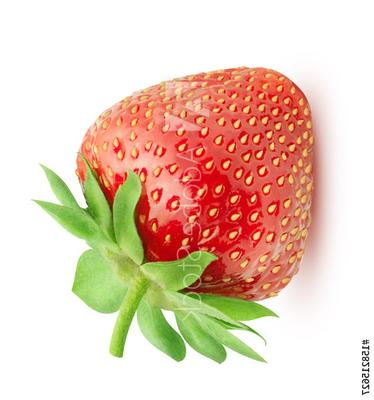strawberry: (0, 0, 374, 400)
